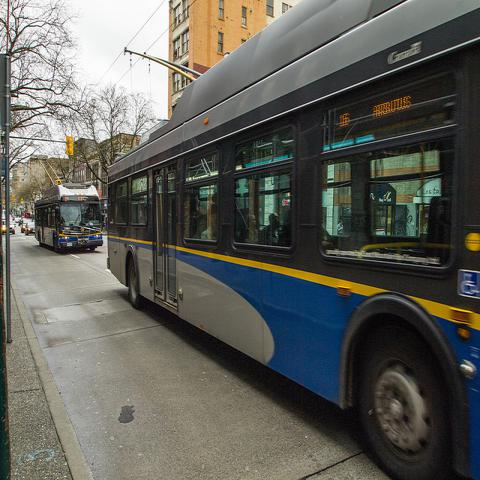bus: (106, 0, 479, 450), (34, 187, 103, 252)
car: (2, 220, 15, 234), (26, 222, 35, 235)
